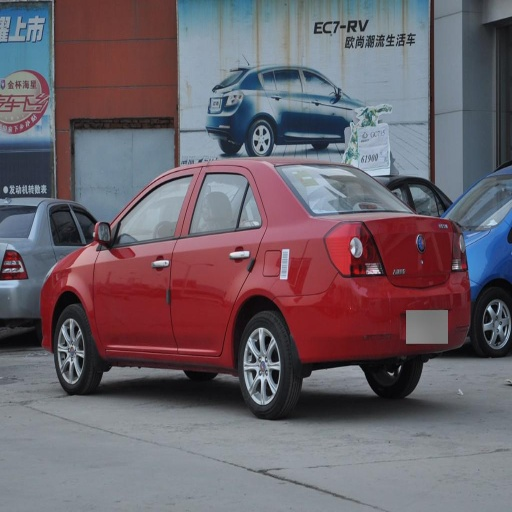back_bumper: (294, 281, 429, 362)
back_glass: (281, 165, 412, 214)
back_left_door: (171, 168, 266, 351)
back_left_light: (325, 236, 373, 277)
back_right_door: (265, 69, 303, 128)
tailgate: (413, 226, 450, 276)
trunk: (352, 214, 451, 342)
